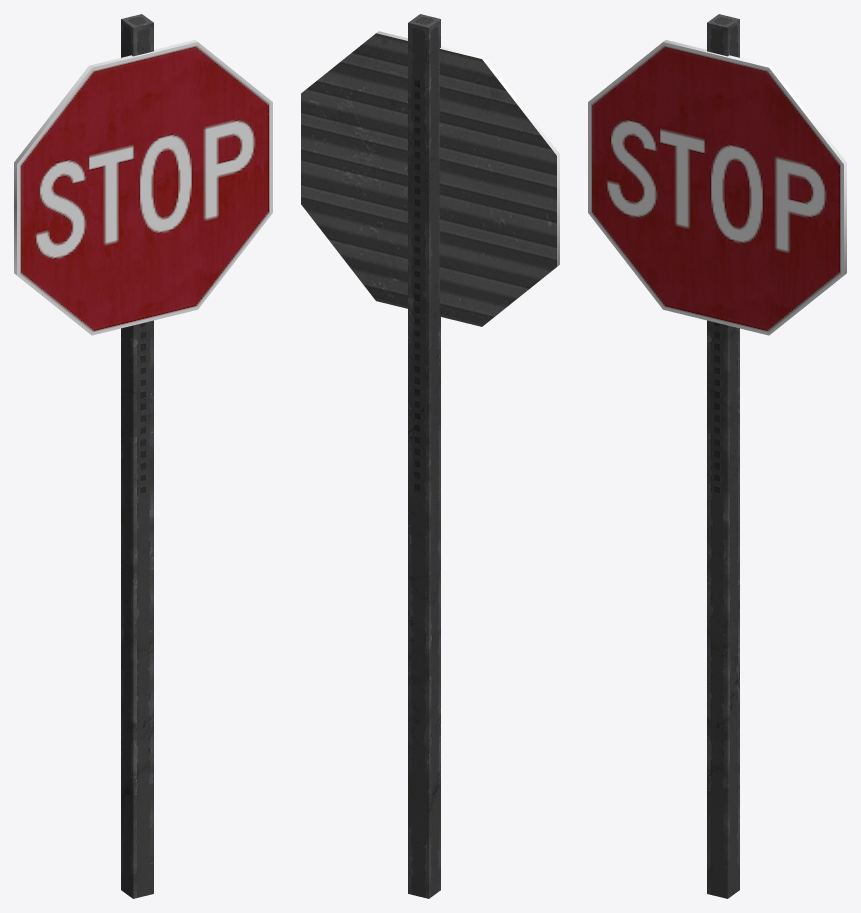
Rendered from Road_Sign_01.fbx.
The picture shows the model from 3 angles, left to right: view 1: azimuth 30°, elevation 25°; view 2: azimuth 150°, elevation 25°; view 3: azimuth 330°, elevation 25°; orthographic projection.
Parts seen in each view (by area): view 1: Road_Sign_01; view 2: Road_Sign_01; view 3: Road_Sign_01.
Boxes of the visible parts, x1=… form: Road_Sign_01: x1=14, y1=14, x2=272, y2=898; Road_Sign_01: x1=301, y1=14, x2=559, y2=898; Road_Sign_01: x1=588, y1=14, x2=846, y2=898.
Bounding box in the file's own units: 62.98 × 205 × 5.69.
